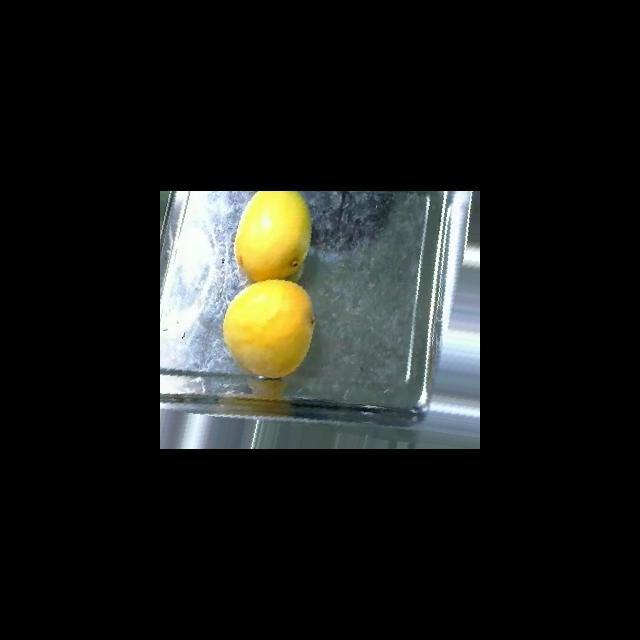mango: (222, 278, 315, 379), (233, 191, 311, 282)
